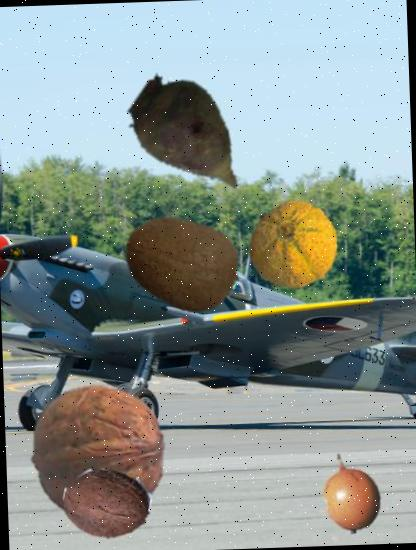Beetroot: (121, 61, 268, 208)
Cantaloupe: (247, 200, 342, 294)
Cocos: (62, 453, 153, 544)
Granadilla: (308, 450, 392, 534)
Kiwi: (122, 202, 244, 324)
Walnut: (26, 379, 170, 522)
